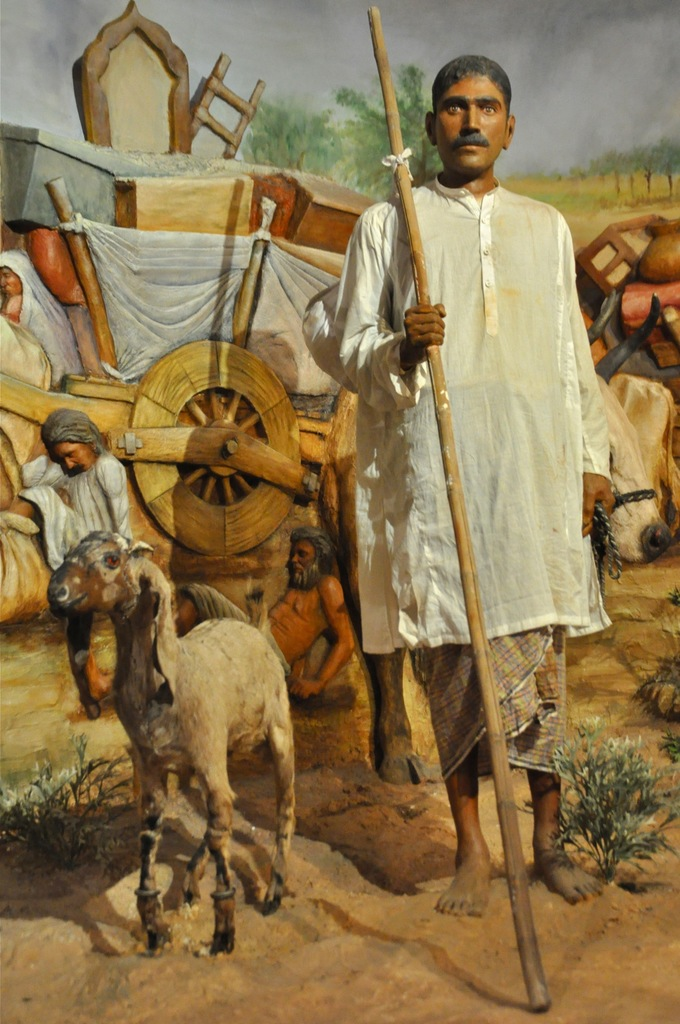Person: (0, 55, 617, 916)
